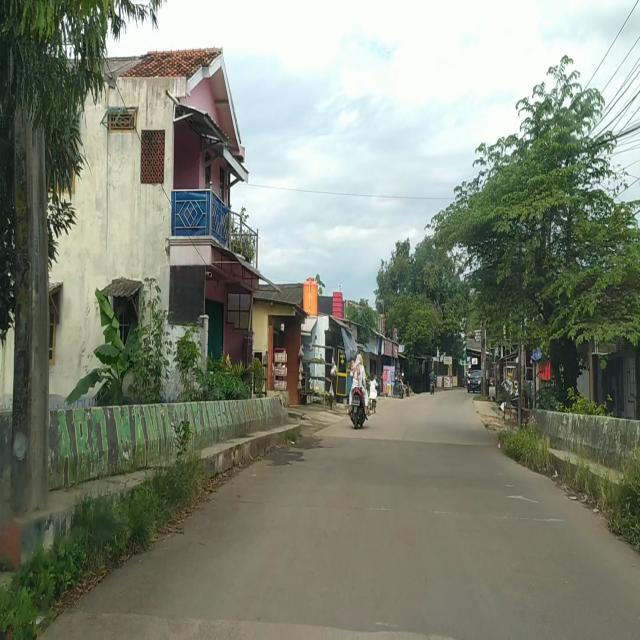Sewer Cover: (255, 499, 572, 523)
